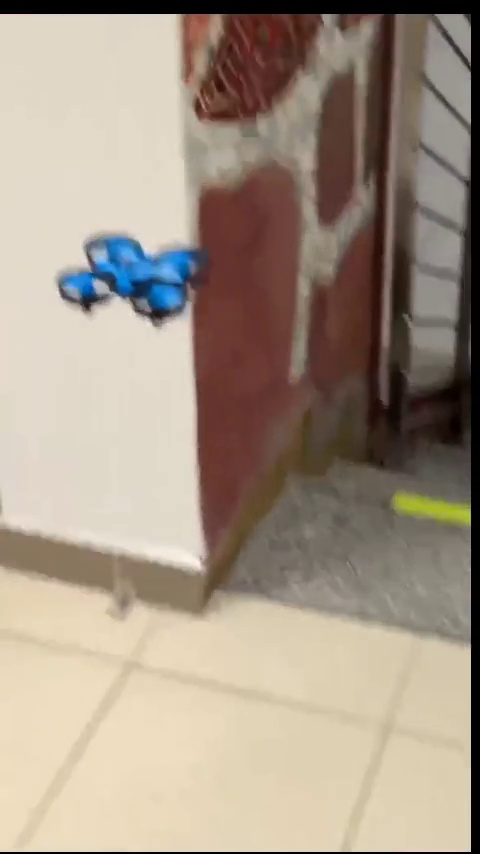drone: (51, 226, 218, 328)
